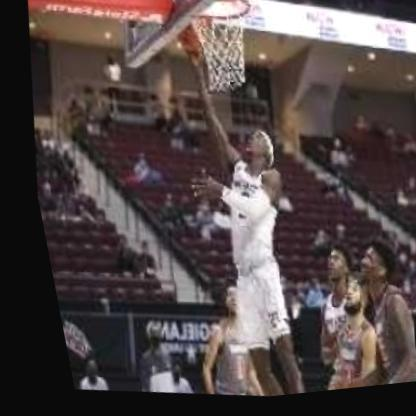basketball: (162, 6, 219, 61)
rim: (171, 0, 261, 102)
